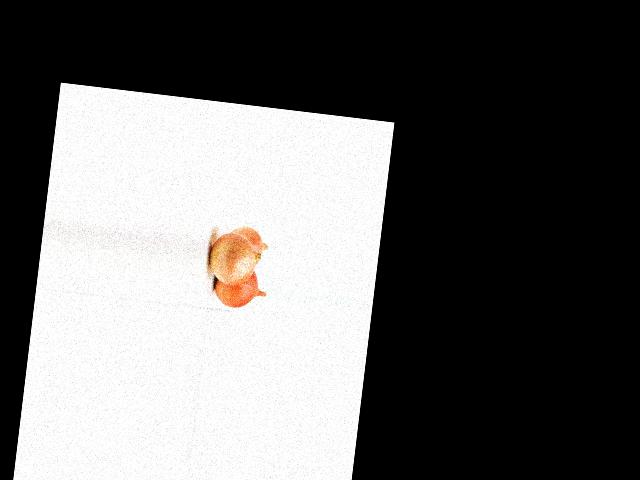onion: (209, 265, 265, 310)
